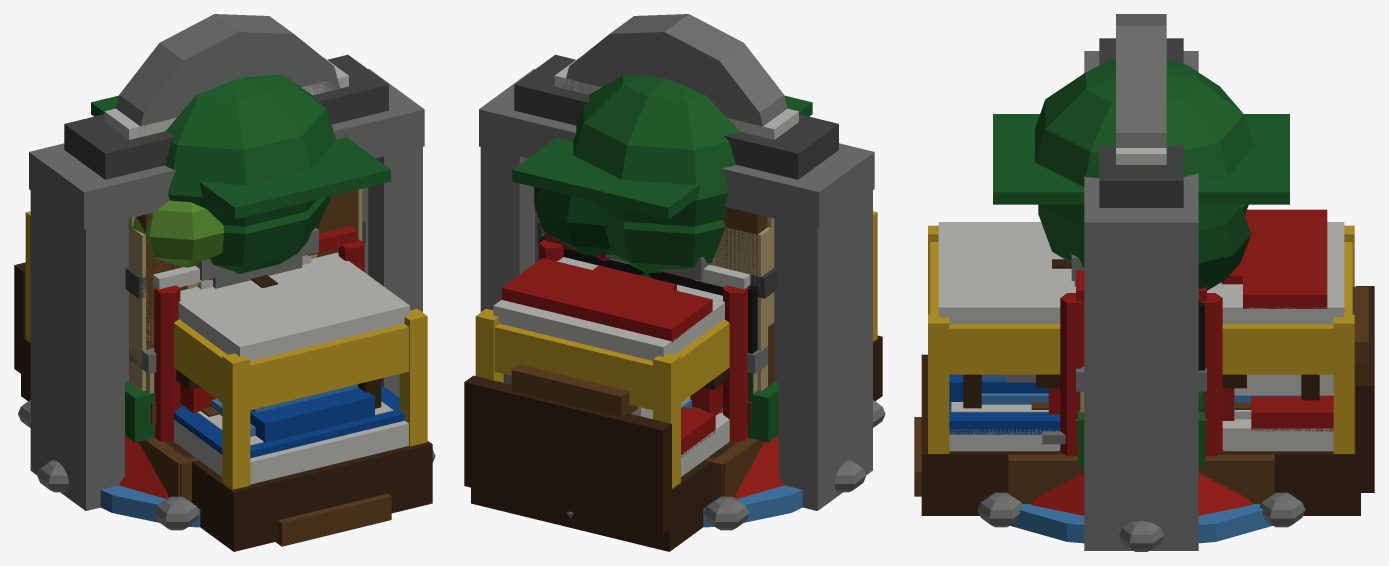
Rendered from lego_props.glb.
3 views of the same model, side by side, from view 1: azimuth 30°, elevation 25°; view 2: azimuth 150°, elevation 25°; view 3: azimuth 270°, elevation 25° (orthographic). The views are drawn at different scales.
Visible parts, largest first — view 1: prop_gate_arch, prop_bunk_bed, prop_bed, prop_tree_oak, prop_door_arch, prop_tree_palm, prop_tree_apple, prop_truck, prop_swing, prop_pond, prop_bridge_ramp, prop_arch (+13 smaller); view 2: prop_gate_arch, prop_bed, prop_bunk_bed, prop_tree_oak, prop_door_arch, prop_tree_palm, prop_tree_apple, prop_pond, prop_swing, prop_arch, prop_bridge_ramp, prop_piano (+12 smaller); view 3: prop_gate_arch, prop_bunk_bed, prop_bed, prop_tree_oak, prop_tree_palm, prop_pond, prop_door_arch, prop_swing, prop_sandbox, prop_bridge_ramp, prop_truck, prop_roof_cone (+5 smaller).
Part boxes in pixels (x1,y1,x2,y2): prop_gate_arch: [29, 54, 424, 510]; prop_bunk_bed: [25, 211, 427, 489]; prop_bed: [14, 262, 432, 551]; prop_tree_oak: [128, 74, 336, 267]; prop_door_arch: [116, 14, 340, 131]; prop_tree_palm: [91, 95, 390, 219]; prop_tree_apple: [210, 196, 330, 273]; prop_truck: [250, 384, 374, 442]; prop_swing: [154, 239, 364, 441]; prop_pond: [18, 400, 435, 530]; prop_bridge_ramp: [276, 378, 391, 546]; prop_arch: [129, 189, 362, 391]; prop_gate_arch: [479, 54, 874, 510]; prop_bed: [464, 335, 882, 551]; prop_bunk_bed: [475, 211, 877, 488]; prop_tree_oak: [534, 75, 739, 256]; prop_door_arch: [563, 14, 787, 133]; prop_tree_palm: [512, 95, 812, 219]; prop_tree_apple: [596, 209, 725, 273]; prop_pond: [567, 400, 885, 530]; prop_swing: [538, 239, 748, 441]; prop_arch: [541, 226, 774, 391]; prop_bridge_ramp: [511, 364, 637, 417]; prop_piano: [539, 235, 757, 400]; prop_gate_arch: [1084, 38, 1198, 550]; prop_bunk_bed: [928, 209, 1354, 453]; prop_bed: [921, 286, 1374, 515]; prop_tree_oak: [1035, 59, 1254, 290]; prop_tree_palm: [993, 114, 1289, 204]; prop_pond: [977, 492, 1305, 551]; prop_door_arch: [1116, 14, 1166, 147]; prop_swing: [1060, 293, 1222, 456]; prop_sandbox: [1008, 454, 1274, 503]; prop_bridge_ramp: [914, 286, 1368, 496]; prop_truck: [949, 374, 1333, 402]; prop_roof_cone: [1030, 450, 1252, 515].
Size of the model in its own units: 0.0518 by 0.058 by 0.0545.
